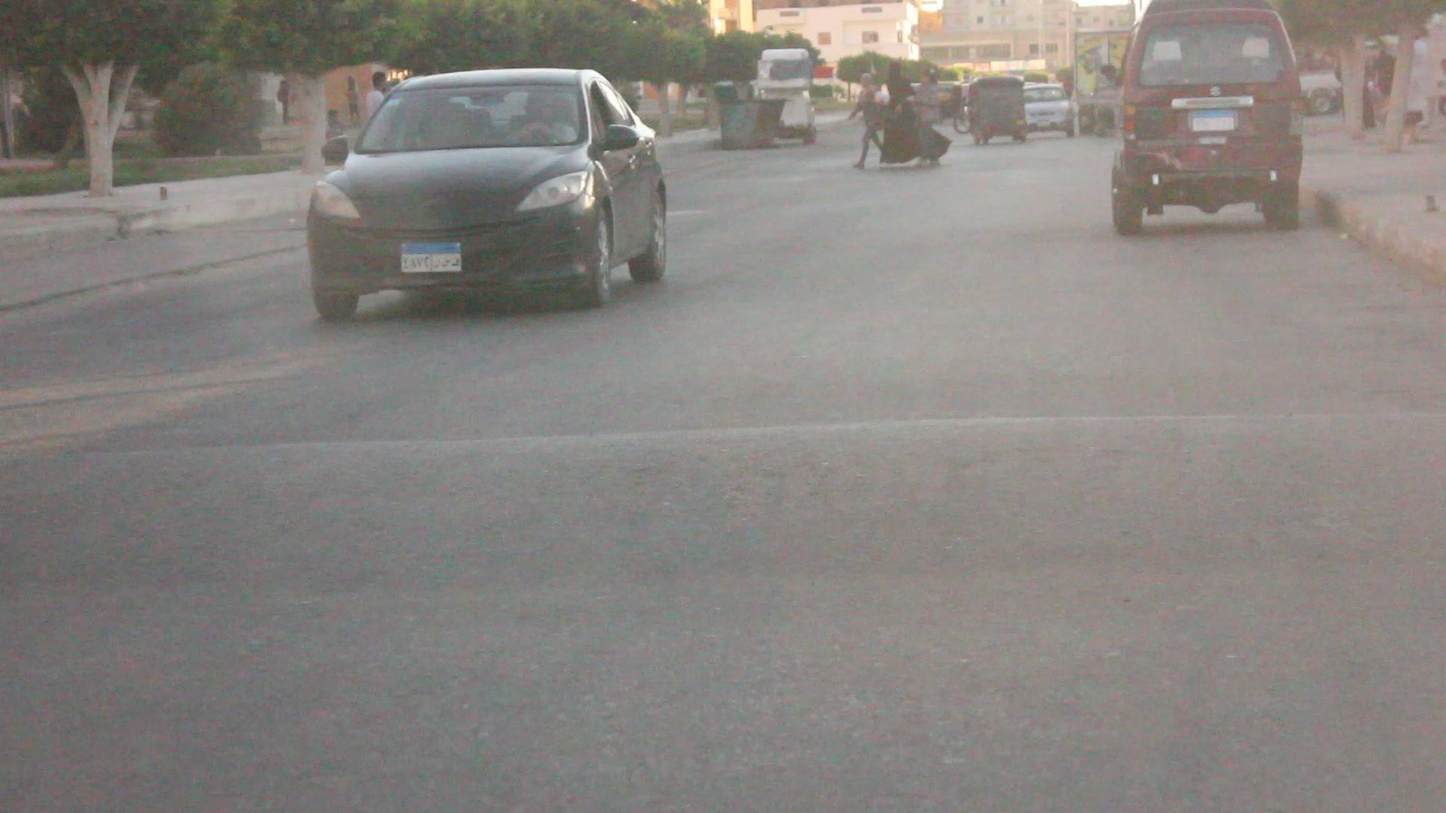Bump: (0, 429, 1446, 597)
